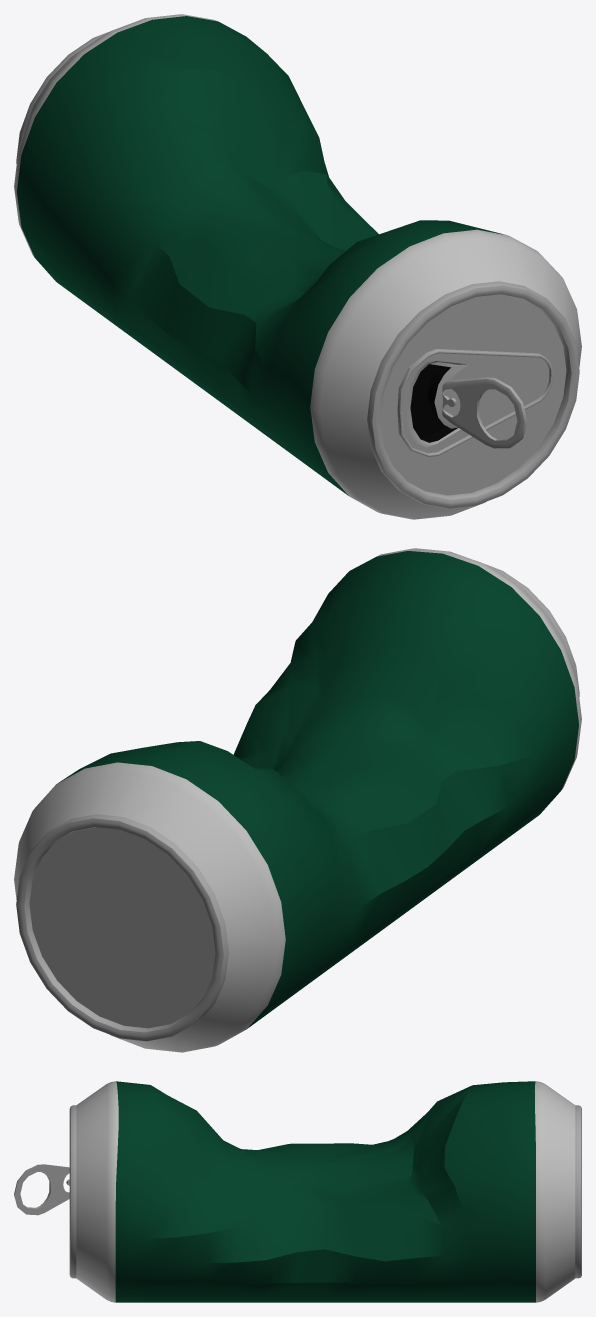
Rendered from Drinks_01.glb.
3 renders of one model, top to bottom at view 1: azimuth 30°, elevation 25°; view 2: azimuth 150°, elevation 25°; view 3: azimuth 270°, elevation 25°, orthographic. The views are drawn at different scales.
Visible parts, largest first — view 1: Mesh_Drinks_01; view 2: Mesh_Drinks_01; view 3: Mesh_Drinks_01.
Part boxes in pixels (box(x1,y1,x2,y2)): Mesh_Drinks_01: box(14, 14, 581, 519); Mesh_Drinks_01: box(14, 548, 581, 1052); Mesh_Drinks_01: box(14, 1081, 581, 1302).
Bounding box in the file's own units: 0.0653 × 0.0652 × 0.1666.
Materials: 1 (1 with a texture image).
